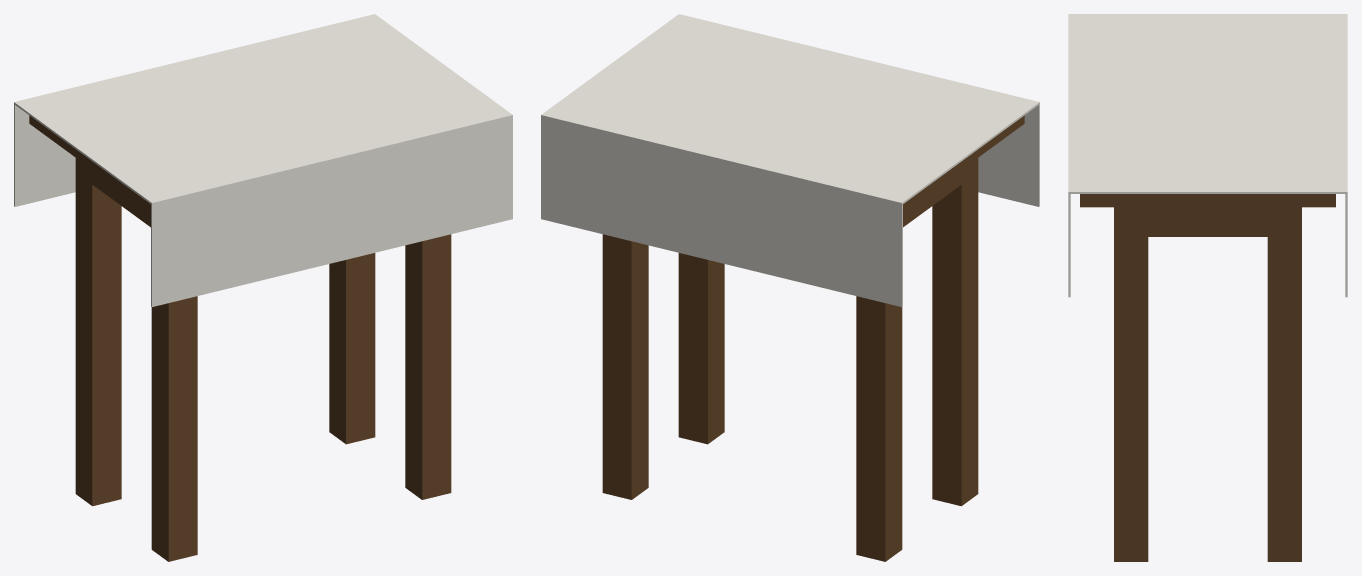
3 views of the same model, side by side, from view 1: azimuth 30°, elevation 25°; view 2: azimuth 150°, elevation 25°; view 3: azimuth 270°, elevation 25° (orthographic).
Visible parts, largest first — view 1: parametric-variant-table-1st-pub-9e1c4ce6aeec1c70ce67; view 2: parametric-variant-table-1st-pub-9e1c4ce6aeec1c70ce67; view 3: parametric-variant-table-1st-pub-9e1c4ce6aeec1c70ce67.
Part boxes in pixels (x1,y1,x2,y2): parametric-variant-table-1st-pub-9e1c4ce6aeec1c70ce67: (14,14,512,561); parametric-variant-table-1st-pub-9e1c4ce6aeec1c70ce67: (541,14,1039,561); parametric-variant-table-1st-pub-9e1c4ce6aeec1c70ce67: (1068,14,1347,561).
Bounding box in the file's own units: 0.74 × 0.754 × 0.49.
